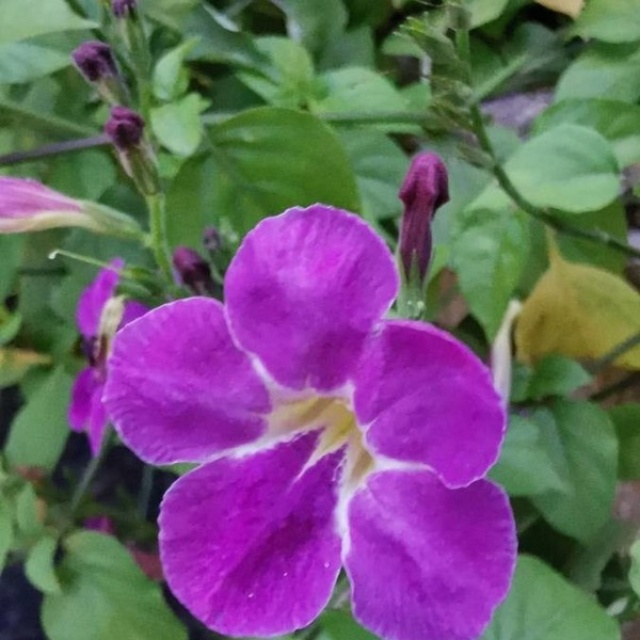obstacle: (89, 187, 516, 609), (22, 23, 606, 294)
